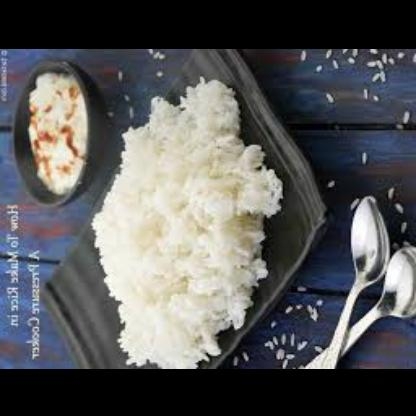banana: (91, 78, 282, 364)
